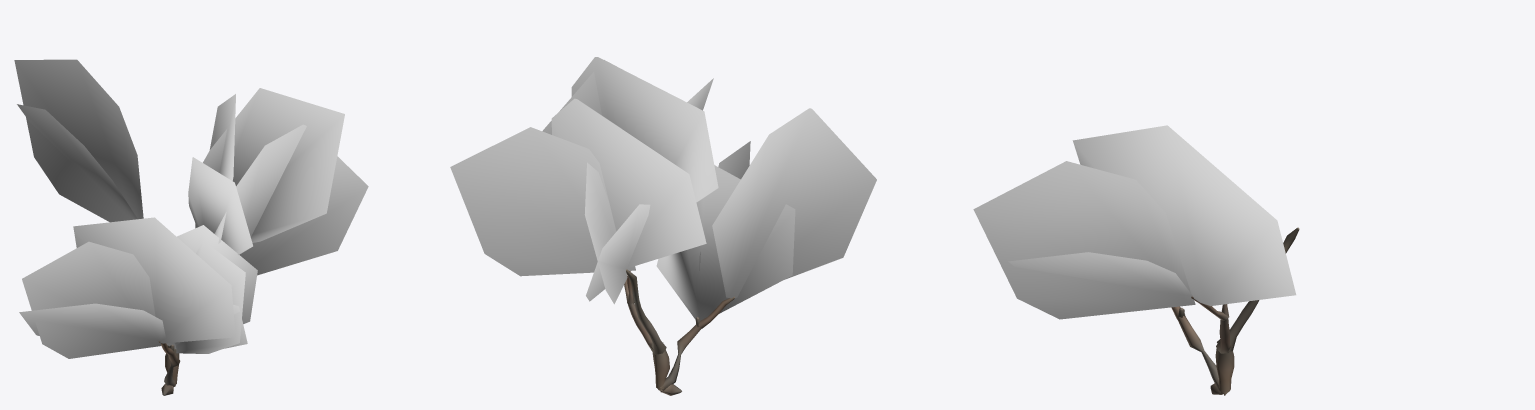
Rendered from shoot_tree_1.glb.
3 views of the same model, side by side, from view 1: azimuth 30°, elevation 25°; view 2: azimuth 150°, elevation 25°; view 3: azimuth 270°, elevation 25° (orthographic). The views are drawn at different scales.
Visible parts, largest first — view 1: shoot_tree_1; view 2: shoot_tree_1; view 3: shoot_tree_1.
Part boxes in pixels (x1=…): shoot_tree_1: x1=14, y1=59, x2=368, y2=395; shoot_tree_1: x1=450, y1=57, x2=876, y2=395; shoot_tree_1: x1=973, y1=125, x2=1299, y2=395.
Bounding box in the file's own units: 6.42 × 5.09 × 6.36.
